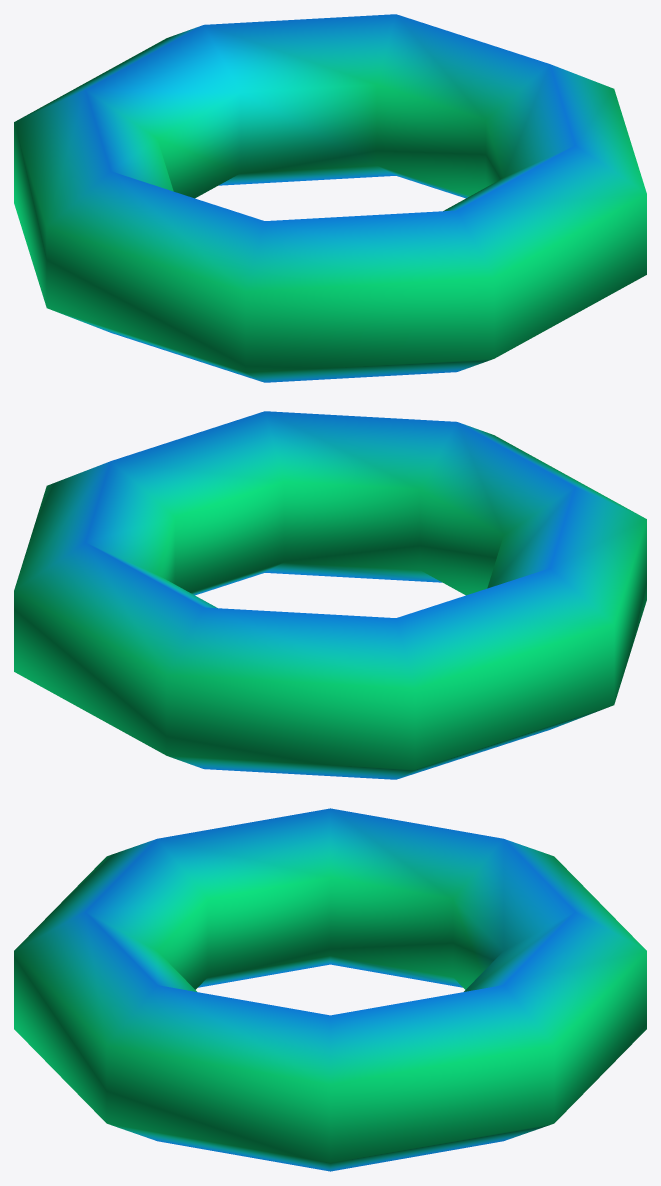
Rendered from PrisonLock.gltf.
3 views of the same model, one above another, from view 1: azimuth 30°, elevation 25°; view 2: azimuth 150°, elevation 25°; view 3: azimuth 270°, elevation 25° (orthographic). The views are drawn at different scales.
Visible parts, largest first — view 1: PrisonLockMesh; view 2: PrisonLockMesh; view 3: PrisonLockMesh.
Boxes of the visible parts, x1,y1,x2,y2 form: PrisonLockMesh: (14, 14, 646, 382); PrisonLockMesh: (14, 411, 646, 779); PrisonLockMesh: (14, 808, 646, 1171).
Bounding box in the file's own units: 0.6115 × 0.1664 × 0.6115.
